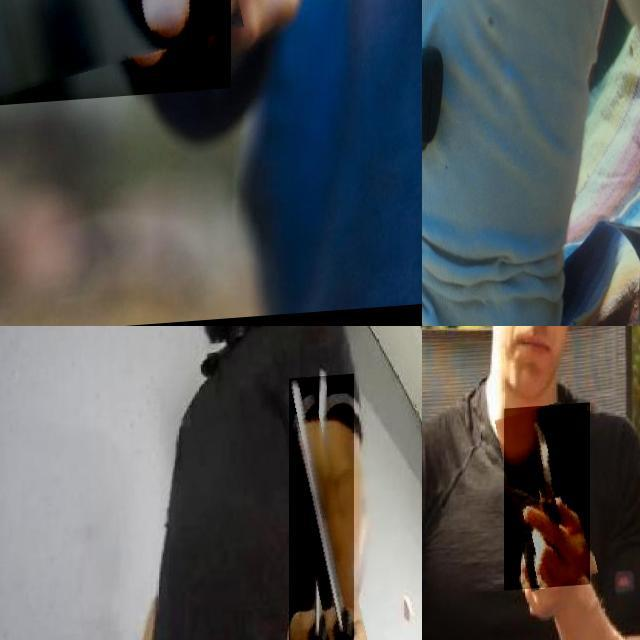-: (0, 0, 231, 175), (288, 379, 354, 640), (504, 406, 590, 593)
